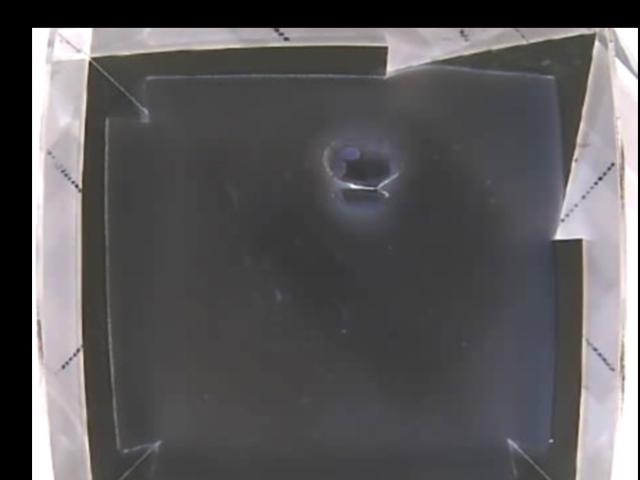Shell: (320, 136, 405, 206)
